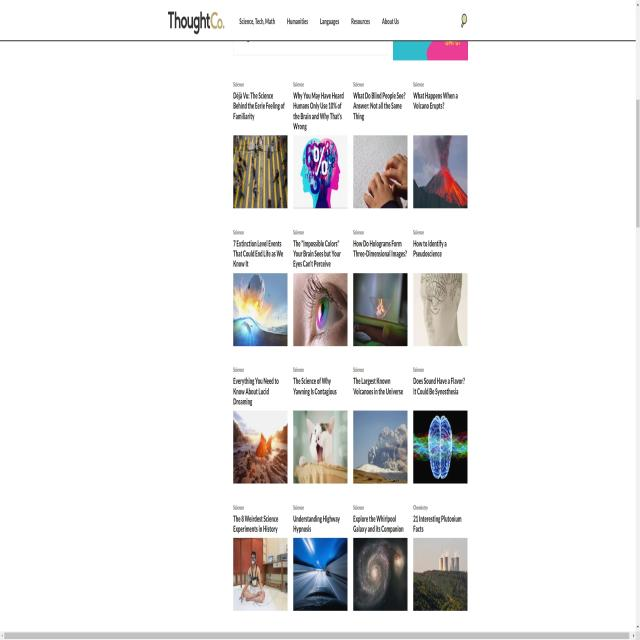menu-bar: (230, 9, 404, 34)
